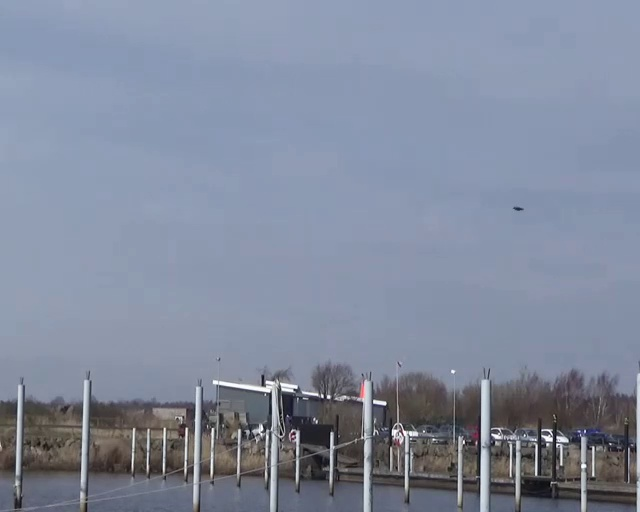BIRD: (510, 203, 521, 214)
